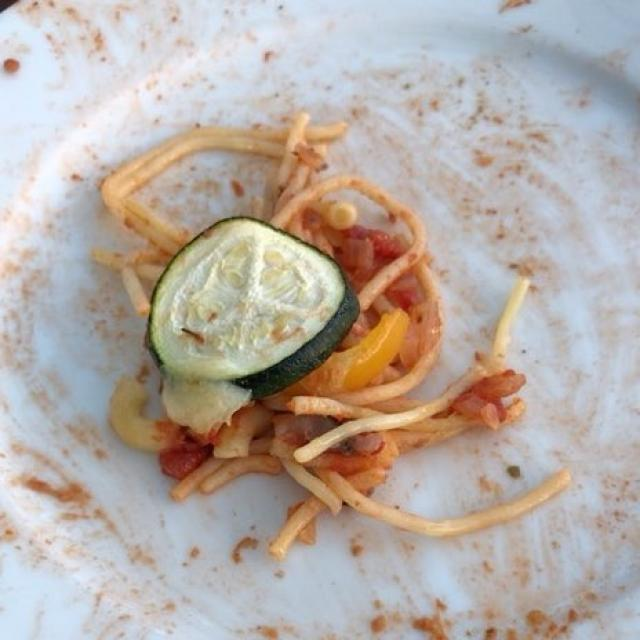bell-pepper: (286, 305, 412, 395)
pasta: (90, 116, 538, 499)
tomato-sauce: (342, 224, 436, 312)
zucchini: (158, 216, 353, 406)
